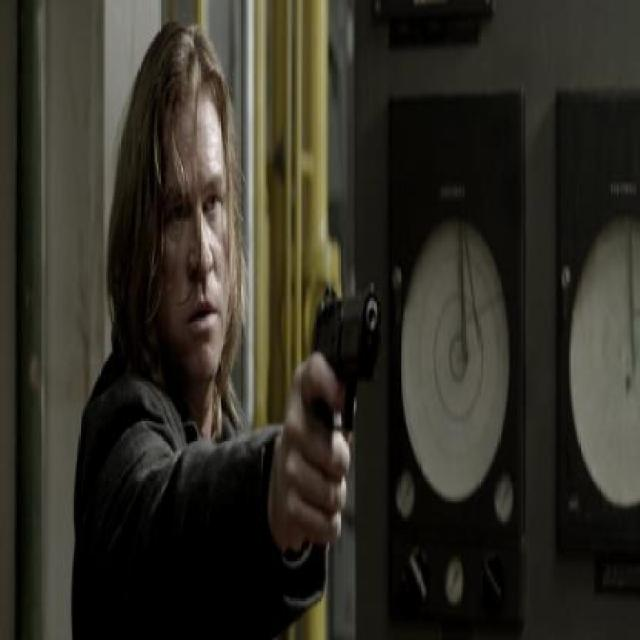guns: (302, 260, 392, 420)
